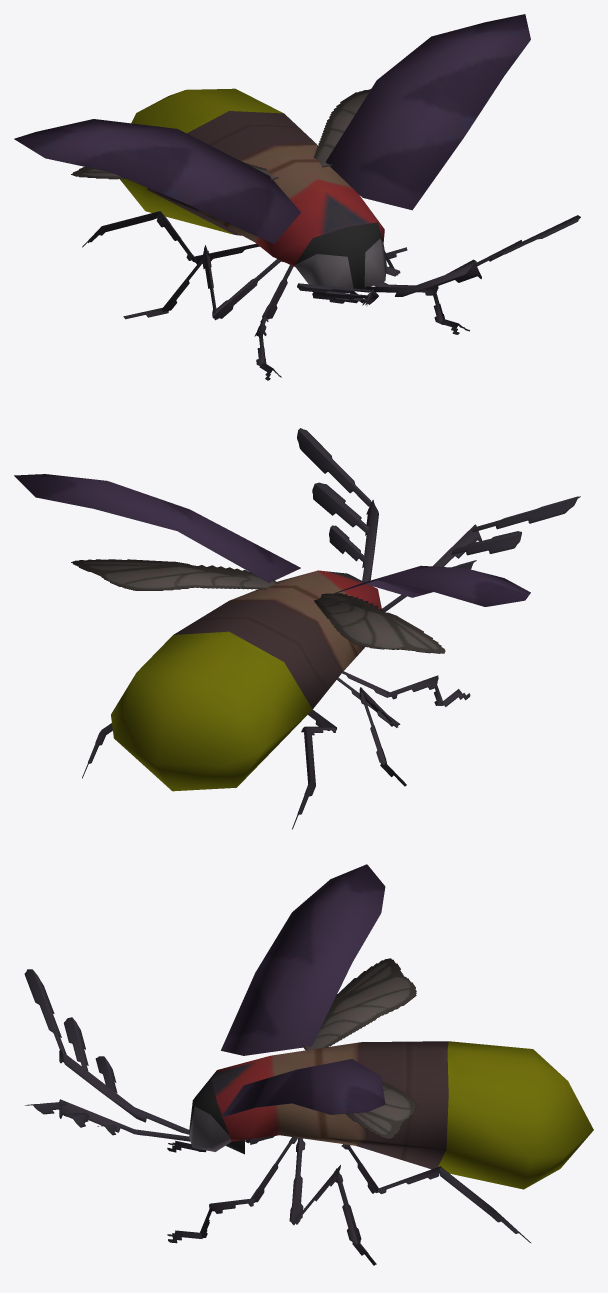
Rendered from firefly.obj.
3 renders of one model, top to bottom at view 1: azimuth 30°, elevation 25°; view 2: azimuth 150°, elevation 25°; view 3: azimuth 270°, elevation 25°, orthographic.
Parts seen in each view (by area): view 1: Body__Mt_Body; view 2: Body__Mt_Body; view 3: Body__Mt_Body.
Boxes of the visible parts, x1,y1,x2,y2 form: Body__Mt_Body: (14,14,580,380); Body__Mt_Body: (14,428,580,829); Body__Mt_Body: (24,864,593,1265).
Size of the model in its own units: 0.1534 by 0.0621 by 0.1518.
Materials: 2 (2 with a texture image).
